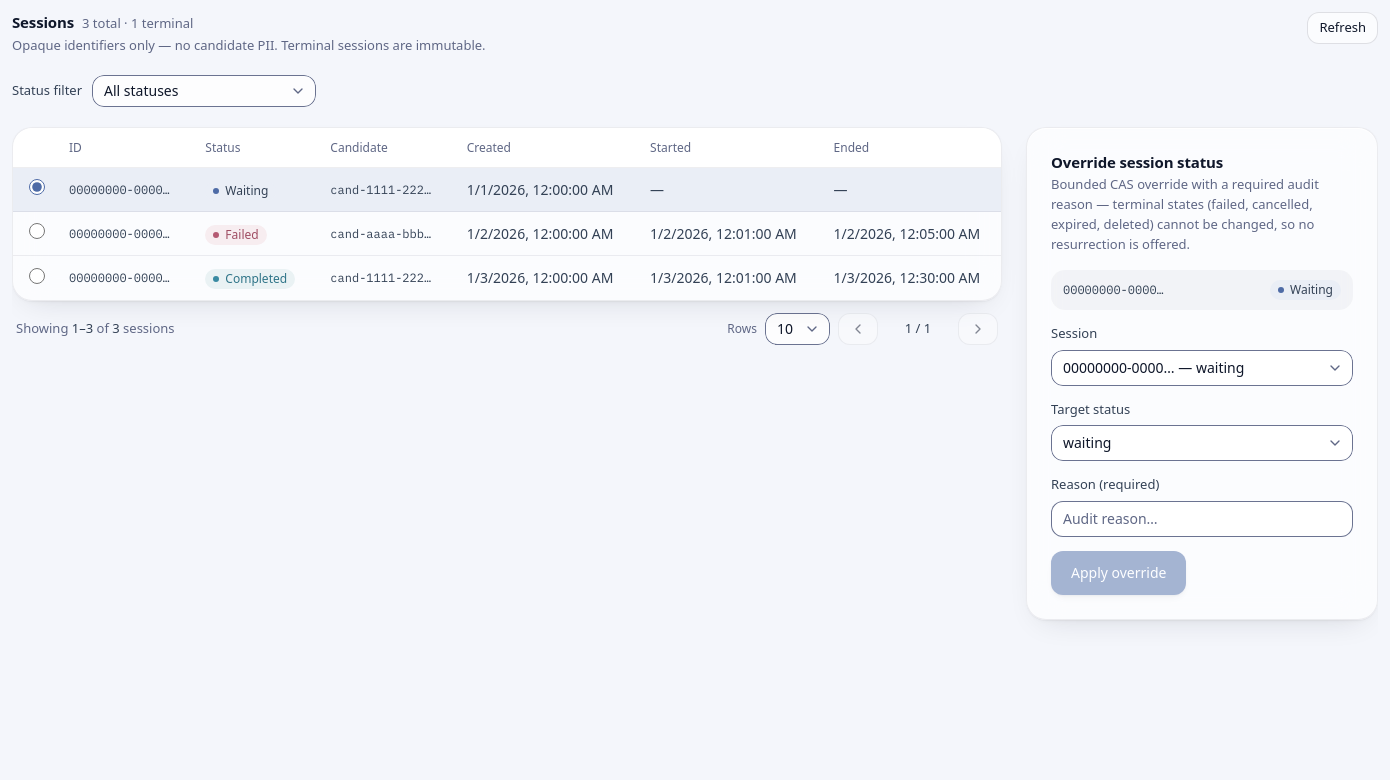
SessionsSection › locks the override form for terminal sessions — no resurrection offered
Expected: the heading "Override session status" is shown, [1051,152,1223,172]
Select "00000000-0000… — failed (terminal — locked)" in the dropdown labelled "Session" at (1202, 368), box [1051,350,1353,386]
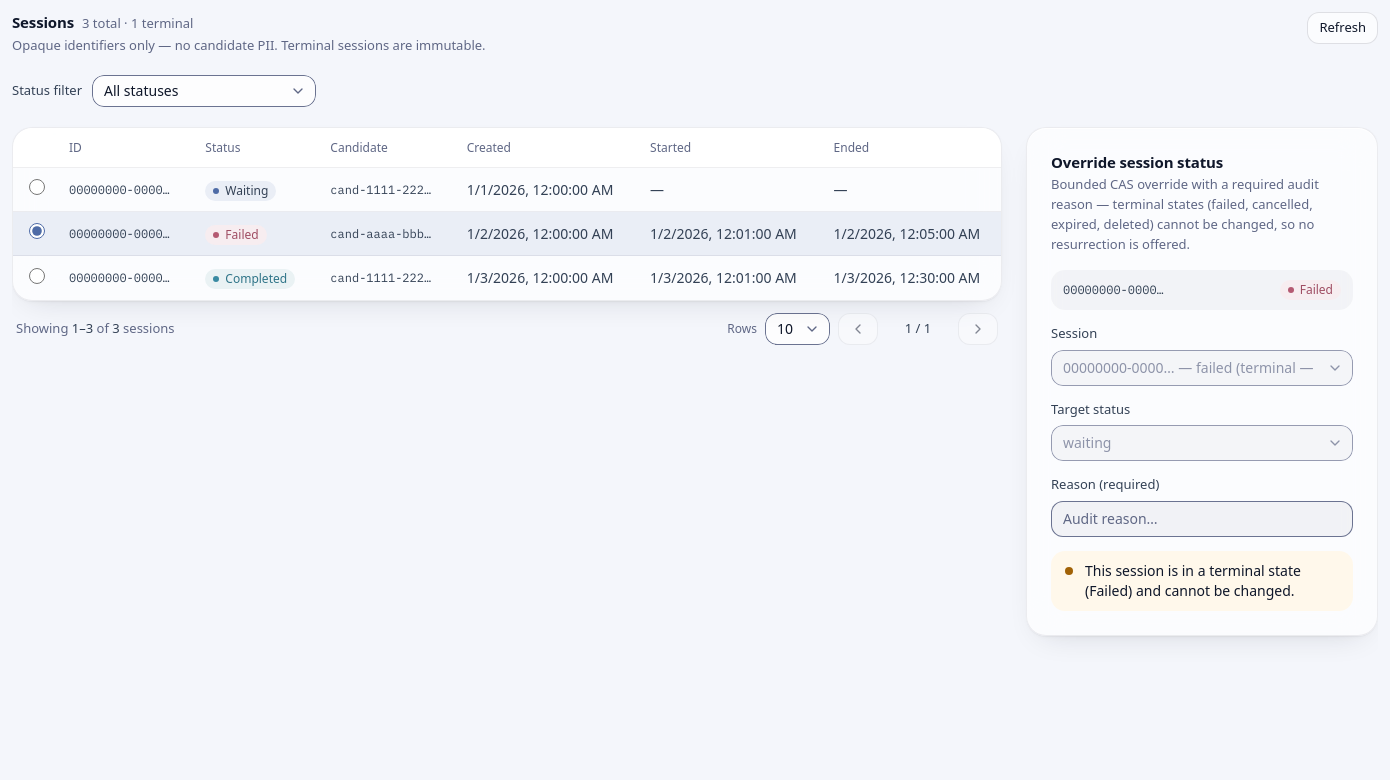
Expected: the text "terminal state (Failed) and cannot be changed" is shown, [1085,560,1339,600]
Expected: the dropdown labelled "Session" is disabled, [1051,350,1353,386]
Expected: the dropdown labelled "Target status" is disabled, [1051,425,1353,461]
